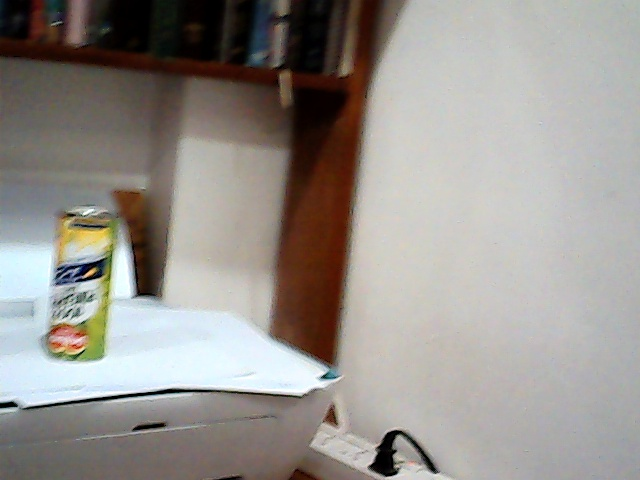Pine Juice: (38, 206, 118, 365)
